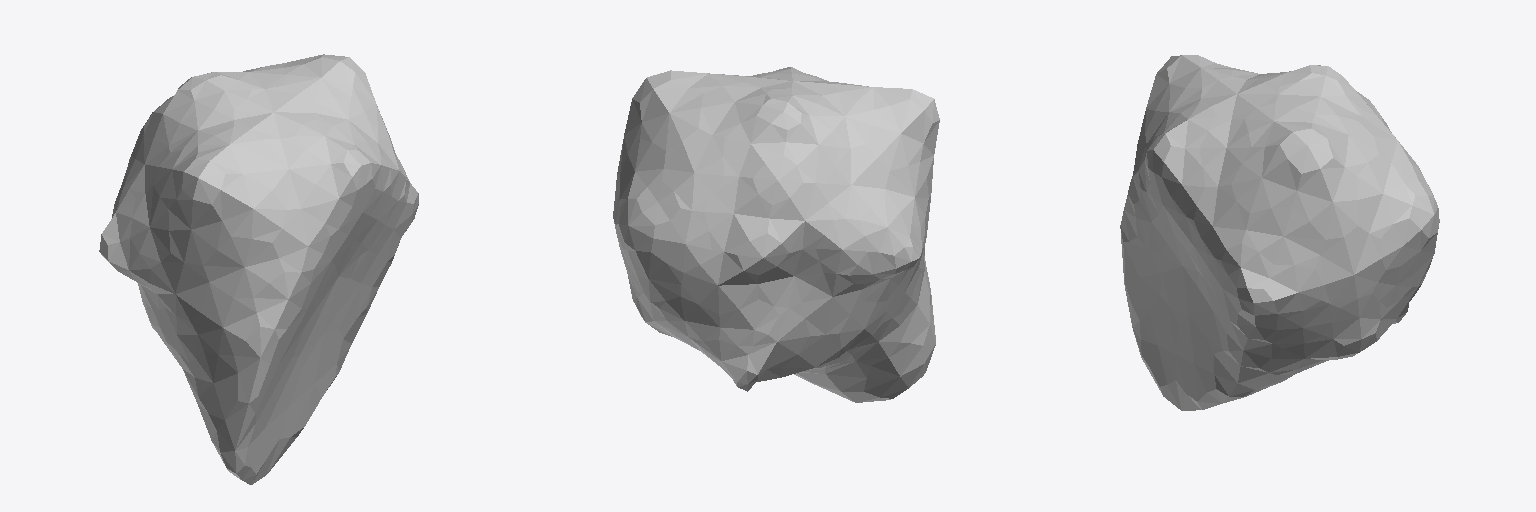
File: marsrock.obj
3 renders of one model, left to right at view 1: azimuth 30°, elevation 25°; view 2: azimuth 150°, elevation 25°; view 3: azimuth 270°, elevation 25°, orthographic.
Parts seen in each view (by area): view 1: Cube.007_Cube.008; view 2: Cube.007_Cube.008; view 3: Cube.007_Cube.008.
Part boxes in pixels (left/top/right/bottom): Cube.007_Cube.008: left=99, top=54, right=418, bottom=484; Cube.007_Cube.008: left=613, top=67, right=939, bottom=402; Cube.007_Cube.008: left=1120, top=55, right=1439, bottom=410.
Size of the model in its own units: 1.75 by 1.94 by 1.61.